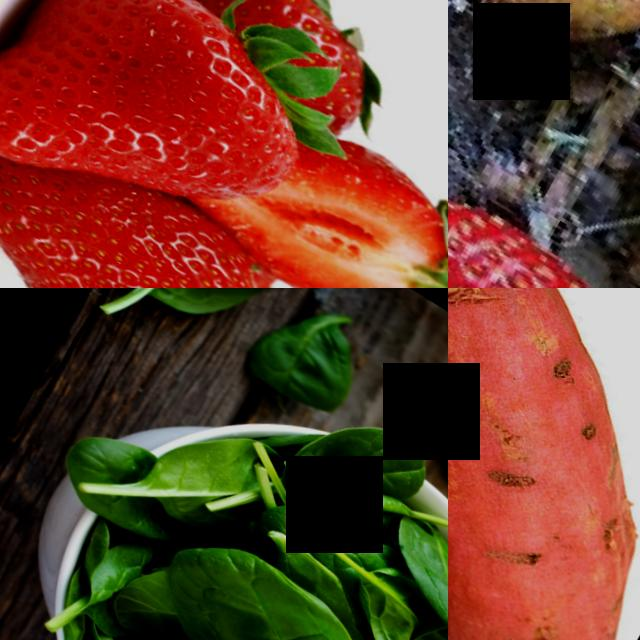spinach: (143, 514, 413, 640), (238, 288, 380, 424), (144, 410, 260, 539), (323, 398, 434, 504), (106, 288, 288, 351), (369, 509, 448, 640)
strawberry: (0, 0, 334, 243), (247, 118, 448, 288), (19, 162, 276, 288), (448, 131, 640, 288), (155, 0, 403, 101)
sweet potato: (448, 365, 640, 640), (448, 288, 640, 443), (448, 288, 494, 590)
